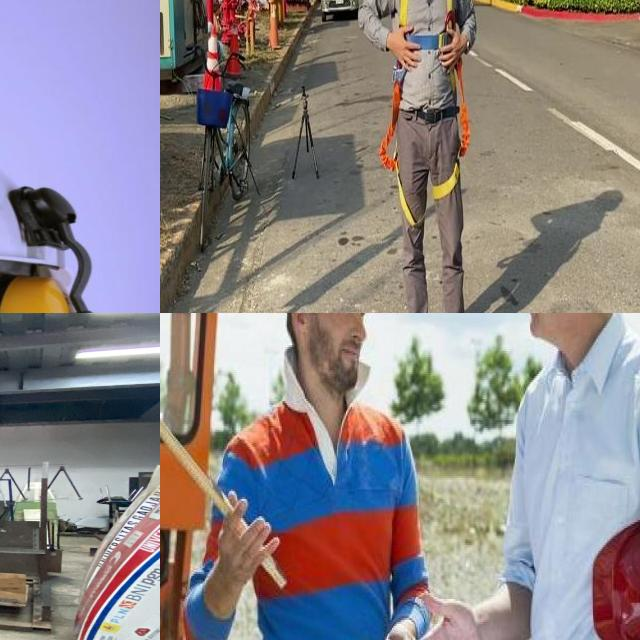Ear-protection: (0, 272, 83, 313)
Harness: (378, 56, 471, 228), (399, 0, 458, 51)
No_Ear-Protection: (288, 313, 310, 334)
No_Glasses: (326, 313, 371, 321)
face_nomask: (325, 313, 373, 375), (507, 313, 564, 332)
hand_noglove: (211, 487, 283, 580), (409, 591, 482, 640)
head_helmet: (0, 126, 91, 283)
person: (227, 313, 437, 640), (472, 313, 640, 640), (0, 119, 160, 313)
